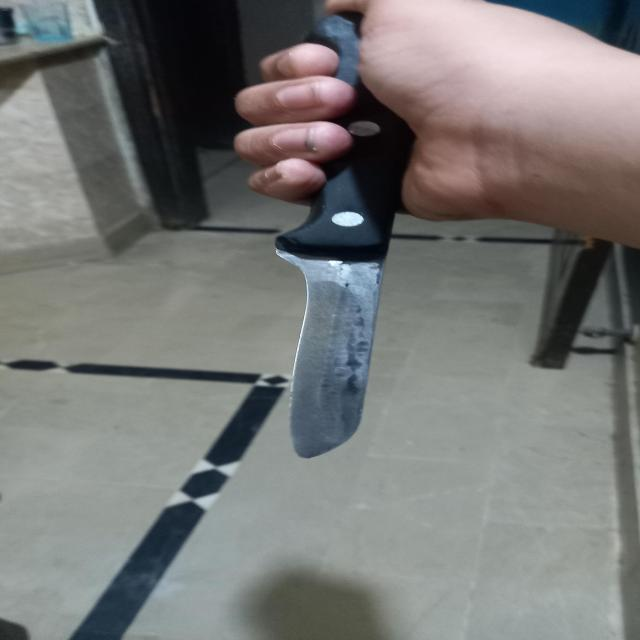Knife: (272, 9, 408, 458)
Person: (237, 0, 640, 256)
